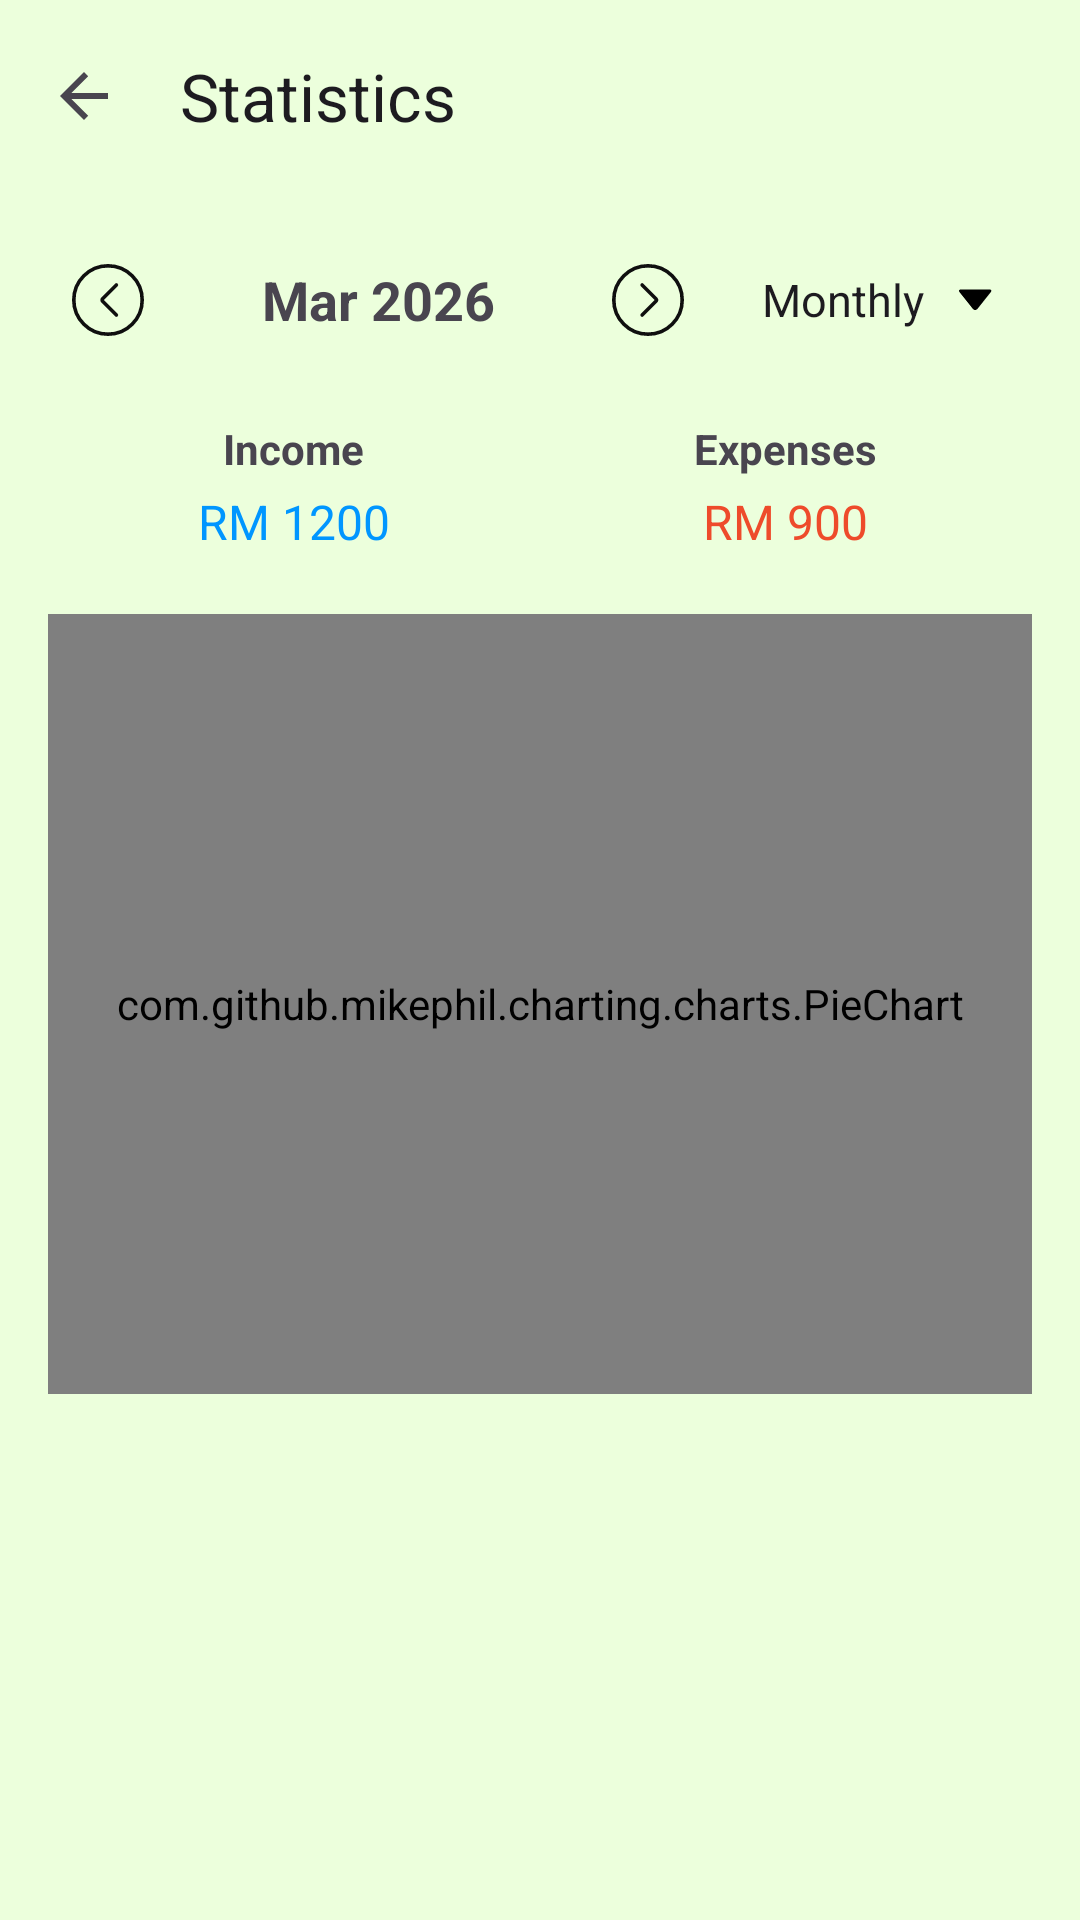

Where to tap for icons on this 1080*1920 app screen, as (x,y):
Next: (648,300)
Previous: (108,300)
